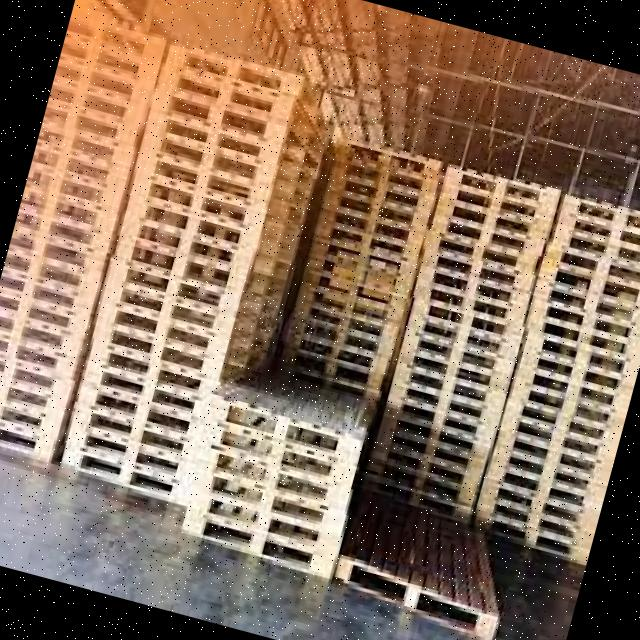Wooden-Pallets: (324, 547, 508, 640), (178, 504, 333, 582), (205, 388, 364, 462), (191, 439, 343, 511), (165, 38, 302, 103), (112, 230, 241, 292), (142, 108, 276, 164), (442, 162, 554, 210), (315, 202, 422, 252), (332, 136, 446, 182), (552, 191, 640, 241)
